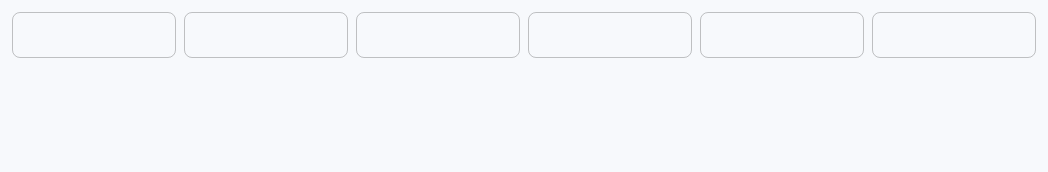
Test case: OtpInput › accepts digits only and advances focus automatically
Type "a1" into the field named "OTP digit 1 of 6".
click(94, 35); type("a1")  # box x1=12 y1=12 x2=176 y2=58
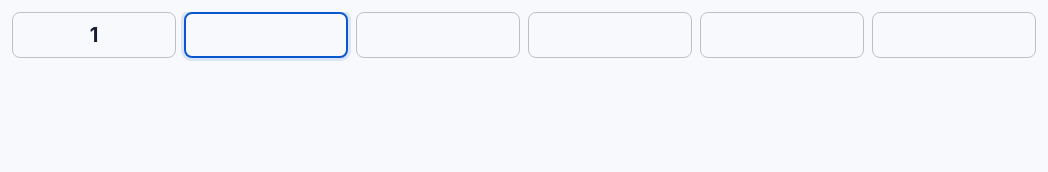
Now the field named "OTP digit 1 of 6" holds "1", box x1=12 y1=12 x2=176 y2=58
Type "!2" into the field named "OTP digit 2 of 6".
click(266, 35); type("!2")  # box x1=184 y1=12 x2=348 y2=58
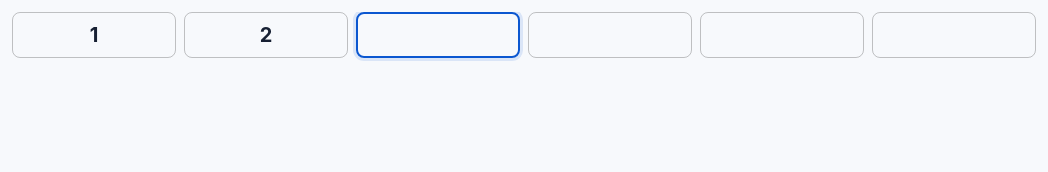
Now the field named "OTP digit 2 of 6" holds "2", box x1=184 y1=12 x2=348 y2=58
